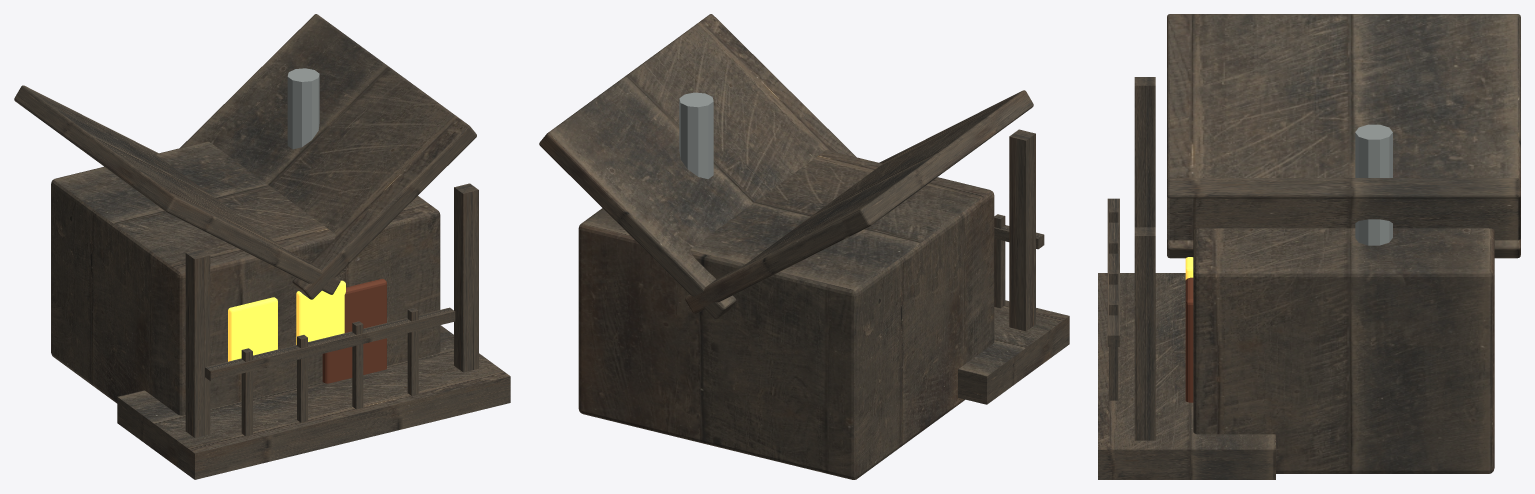
The model's file is LakesideCabinHiFi.fbx.
The picture shows the model from 3 angles, left to right: view 1: azimuth 30°, elevation 25°; view 2: azimuth 150°, elevation 25°; view 3: azimuth 270°, elevation 25°; orthographic projection. The views are drawn at different scales.
Visible parts, largest first — view 1: Cabin_Walls.001, Cabin_Roof_Right.001, HiFi_Cabin_Porch.001, Cabin_Roof_Left.001, HiFi_Cabin_PorchPost.002, HiFi_Cabin_PorchPost.003, HiFi_Cabin_RailTop.001, Cabin_Door.001, Cabin_Window.002, Cabin_Chimney.001, Cabin_Window.003, HiFi_Cabin_Railing.006 (+3 smaller); view 2: Cabin_Walls.001, Cabin_Roof_Right.001, Cabin_Roof_Left.001, HiFi_Cabin_Porch.001, HiFi_Cabin_PorchPost.002, Cabin_Chimney.001, HiFi_Cabin_Railing.004; view 3: Cabin_Walls.001, Cabin_Roof_Left.001, Cabin_Roof_Right.001, HiFi_Cabin_Porch.001, HiFi_Cabin_PorchPost.003, HiFi_Cabin_PorchPost.002, Cabin_Chimney.001, HiFi_Cabin_RailTop.001, Cabin_Door.001, HiFi_Cabin_Railing.007.
Boxes of the visible parts, left/top/right/bottom form: Cabin_Walls.001: left=51, top=141, right=440, bottom=415; Cabin_Roof_Right.001: left=180, top=14, right=476, bottom=299; HiFi_Cabin_Porch.001: left=117, top=325, right=510, bottom=479; Cabin_Roof_Left.001: left=14, top=85, right=340, bottom=294; HiFi_Cabin_PorchPost.002: left=185, top=249, right=210, bottom=437; HiFi_Cabin_PorchPost.003: left=454, top=183, right=478, bottom=372; HiFi_Cabin_RailTop.001: left=205, top=307, right=455, bottom=380; Cabin_Door.001: left=322, top=278, right=386, bottom=383; Cabin_Window.002: left=228, top=297, right=277, bottom=361; Cabin_Chimney.001: left=287, top=68, right=319, bottom=149; Cabin_Window.003: left=296, top=280, right=345, bottom=344; HiFi_Cabin_Railing.006: left=352, top=321, right=363, bottom=409; Cabin_Walls.001: left=578, top=150, right=994, bottom=479; Cabin_Roof_Right.001: left=539, top=14, right=856, bottom=319; Cabin_Roof_Left.001: left=685, top=90, right=1033, bottom=313; HiFi_Cabin_Porch.001: left=958, top=300, right=1069, bottom=404; HiFi_Cabin_PorchPost.002: left=1009, top=129, right=1035, bottom=331; Cabin_Chimney.001: left=679, top=92, right=713, bottom=178; HiFi_Cabin_Railing.004: left=994, top=214, right=1005, bottom=308; Cabin_Walls.001: left=1193, top=228, right=1494, bottom=473; Cabin_Roof_Left.001: left=1167, top=14, right=1520, bottom=258; Cabin_Roof_Right.001: left=1167, top=178, right=1520, bottom=240; HiFi_Cabin_Porch.001: left=1098, top=273, right=1275, bottom=479; HiFi_Cabin_PorchPost.003: left=1134, top=227, right=1155, bottom=440; HiFi_Cabin_PorchPost.002: left=1134, top=77, right=1155, bottom=227; Cabin_Chimney.001: left=1355, top=124, right=1392, bottom=245; HiFi_Cabin_RailTop.001: left=1107, top=198, right=1119, bottom=346; Cabin_Door.001: left=1185, top=277, right=1193, bottom=402; HiFi_Cabin_Railing.007: left=1109, top=301, right=1118, bottom=400.
Size of the model in its own units: 4 by 3.28 by 4.04.
6 materials, 3 textured.
